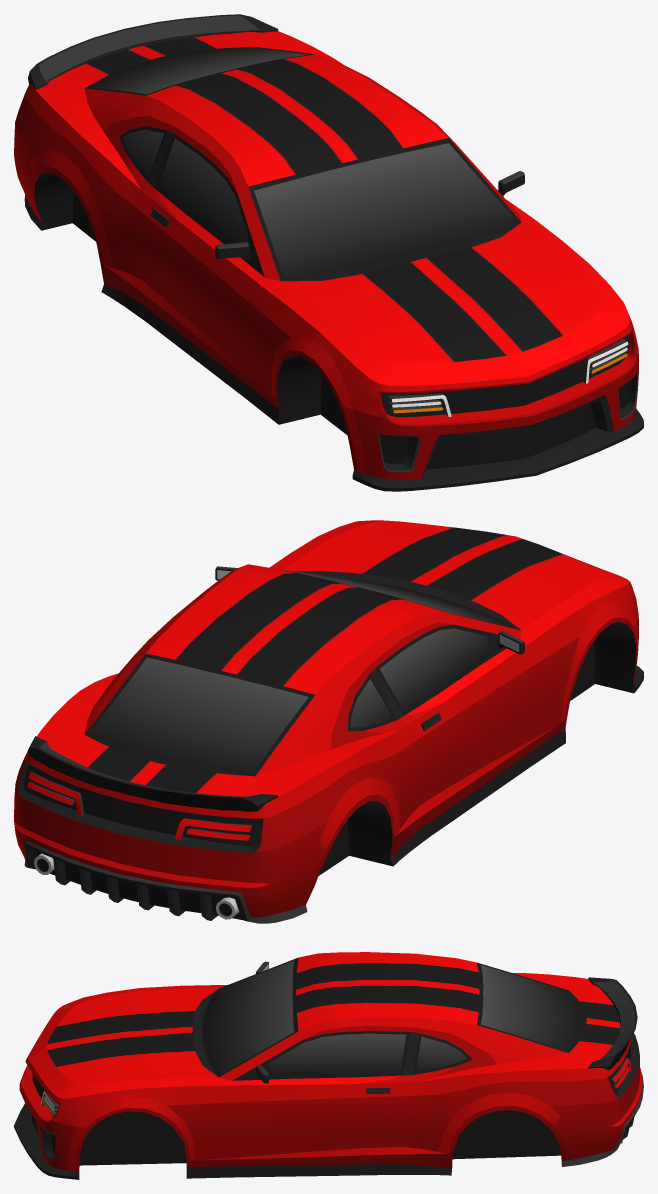
The model's file is RedCar.fbx.
3 views of the same model, one above another, from view 1: azimuth 30°, elevation 25°; view 2: azimuth 150°, elevation 25°; view 3: azimuth 270°, elevation 25° (orthographic). The views are drawn at different scales.
Parts seen in each view (by area): view 1: Body, Spoiler; view 2: Body, Spoiler; view 3: Body, Spoiler.
Part boxes in pixels (bbox=[...]): Body: bbox=[14, 31, 643, 491]; Spoiler: bbox=[28, 14, 278, 90]; Body: bbox=[14, 520, 643, 923]; Spoiler: bbox=[28, 736, 278, 811]; Body: bbox=[14, 952, 643, 1179]; Spoiler: bbox=[588, 977, 637, 1070].
Size of the model in its own units: 3.71 by 2.21 by 8.68.
Materials: 3 (3 with a texture image).
